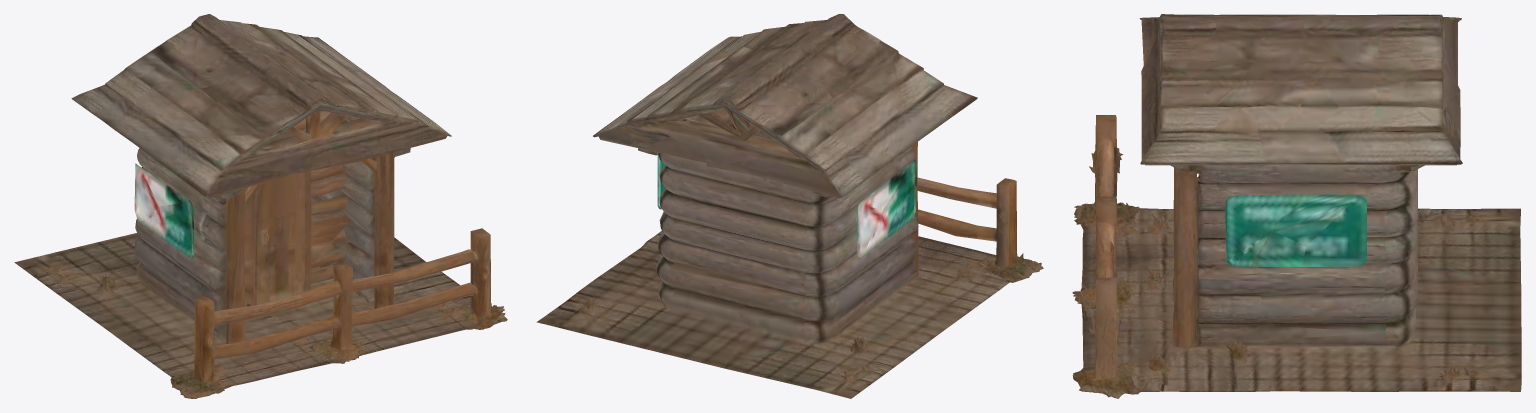
Rendered from prop-boa-post.glb.
3 views of the same model, side by side, from view 1: azimuth 30°, elevation 25°; view 2: azimuth 150°, elevation 25°; view 3: azimuth 270°, elevation 25° (orthographic). The views are drawn at different scales.
Bounding box in the file's own units: 1.91 × 1.3 × 1.85.
1 material, 1 textured.
